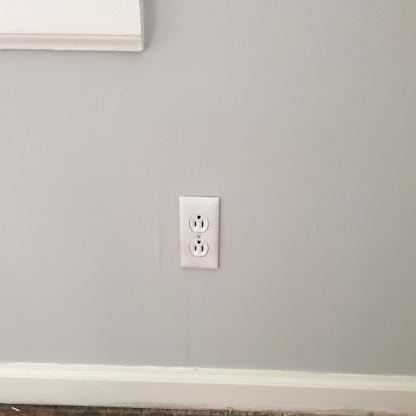OUTLET: (177, 194, 222, 276)
